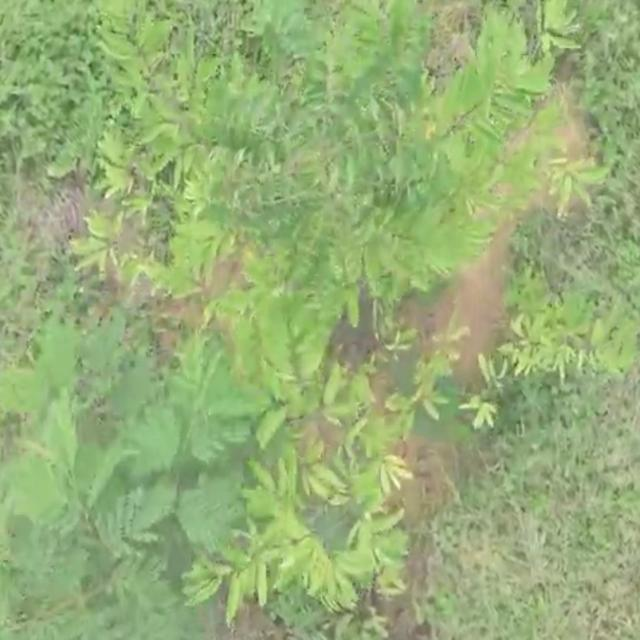notMangoTree: (74, 0, 604, 640)
